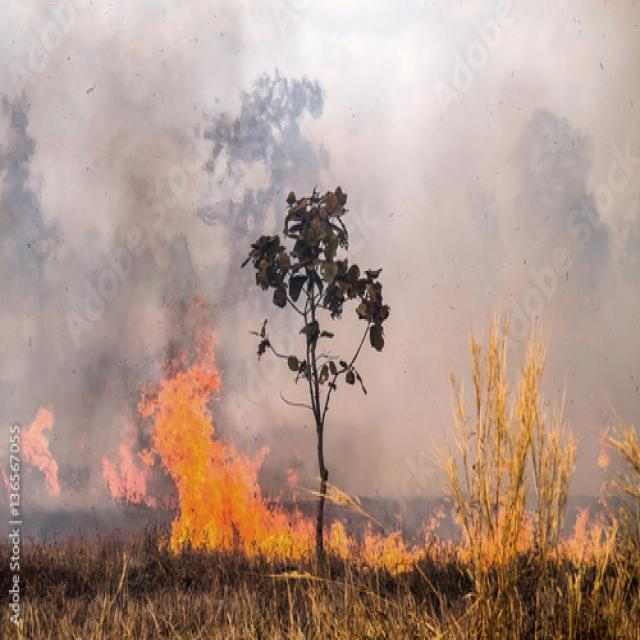Fire: (142, 342, 310, 559), (324, 519, 420, 570), (12, 408, 62, 502), (100, 434, 142, 506)
Smoke: (1, 0, 640, 331)
